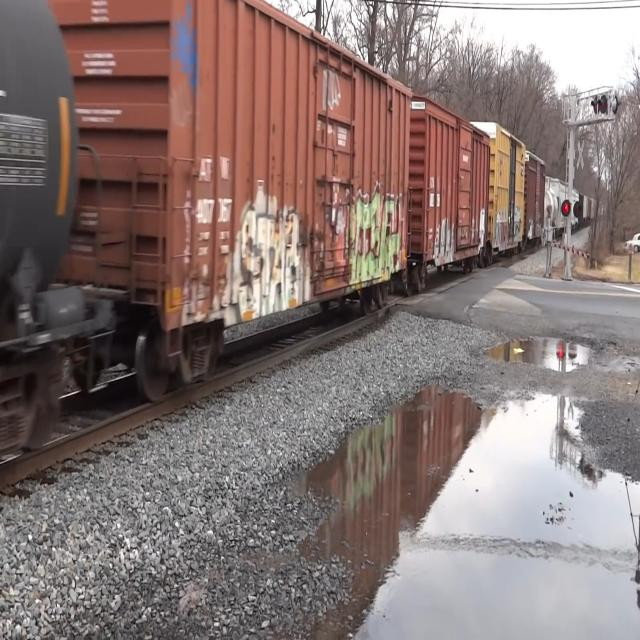boxcar: (81, 0, 420, 401), (409, 91, 490, 291)
tank: (0, 0, 103, 490)
